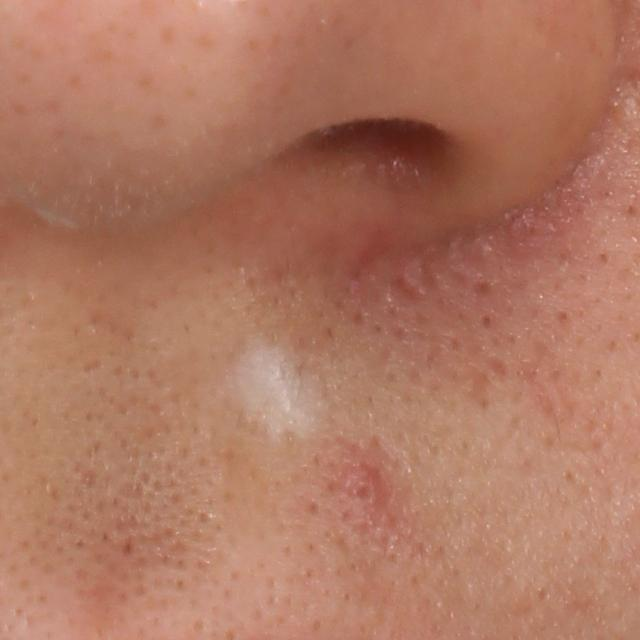atrophic_scar: (390, 263, 436, 309)
other: (225, 332, 337, 442)
papule: (340, 450, 399, 521)
